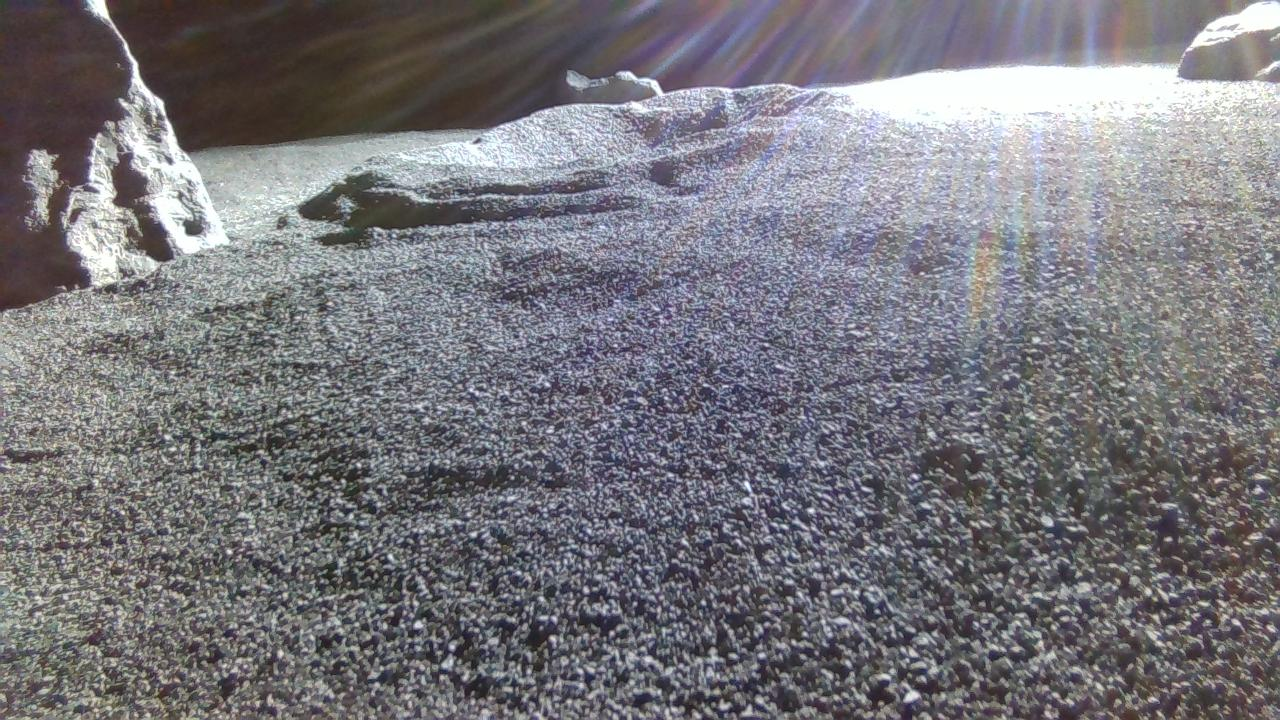rock: (6, 0, 226, 285), (563, 68, 663, 102)
